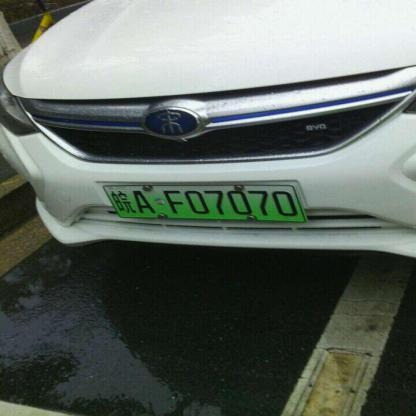lp: (103, 185, 306, 221)
